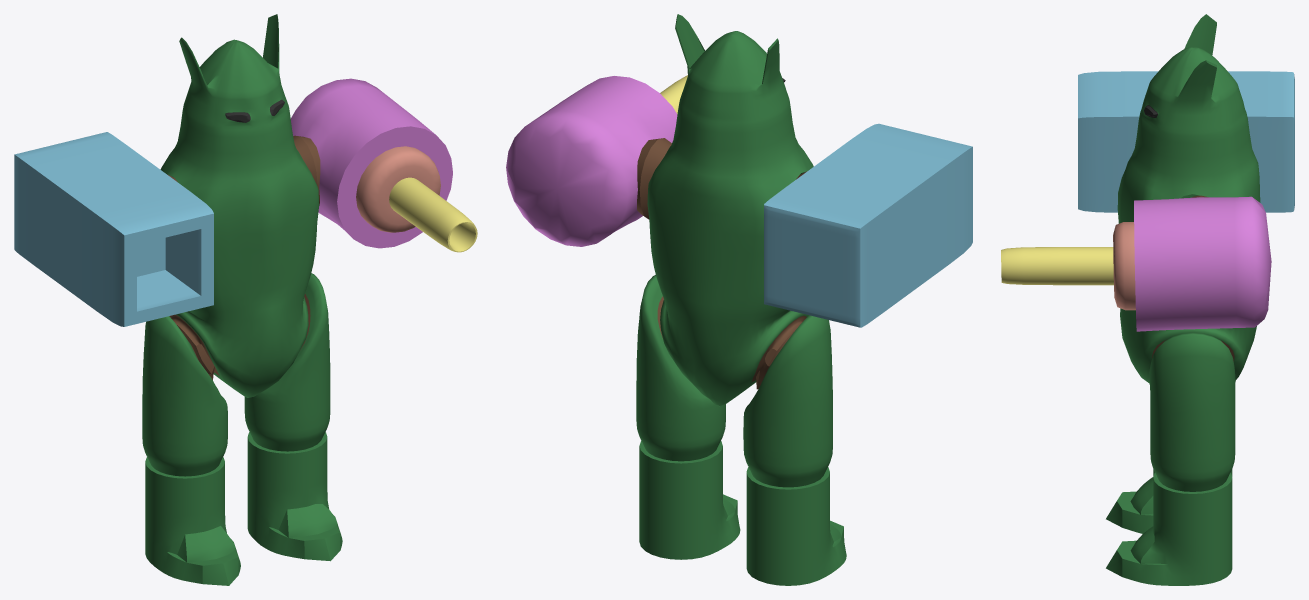
The model's file is Mini_player_Fin.fbx.
3 renders of one model, left to right at view 1: azimuth 30°, elevation 25°; view 2: azimuth 150°, elevation 25°; view 3: azimuth 270°, elevation 25°, orthographic. The views are drawn at different scales.
Parts seen in each view (by area): view 1: robot, Rocket_arm, laser_arm; view 2: robot, Rocket_arm, laser_arm; view 3: robot, laser_arm, Rocket_arm.
Part boxes in pixels (box(x1,y1,x2,y2)): robot: box(142, 14, 342, 585); Rocket_arm: box(14, 132, 213, 326); laser_arm: box(290, 78, 477, 252); robot: box(636, 14, 846, 585); Rocket_arm: box(764, 123, 972, 327); laser_arm: box(506, 75, 687, 246); robot: box(1106, 14, 1260, 585); laser_arm: box(1001, 195, 1271, 331); Rocket_arm: box(1078, 71, 1294, 212).
Bounding box in the file's own units: 528 × 716 × 376.
